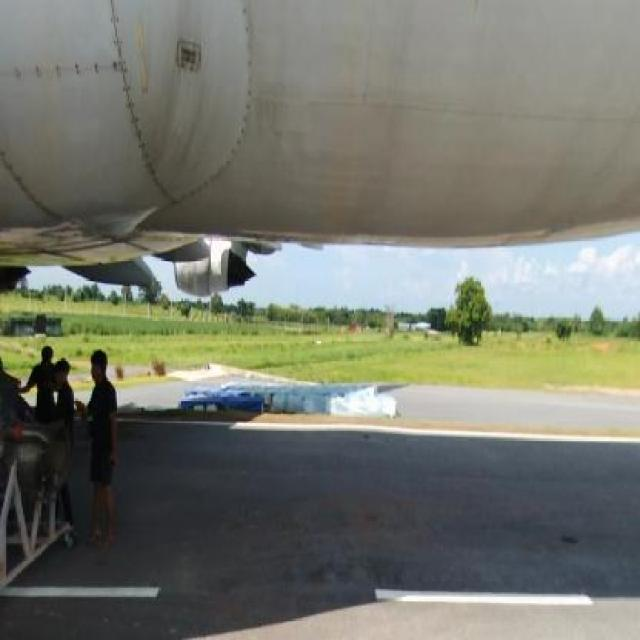Missing-Rivet: (117, 85, 211, 209), (211, 10, 264, 182), (8, 50, 141, 87), (102, 0, 129, 45)
